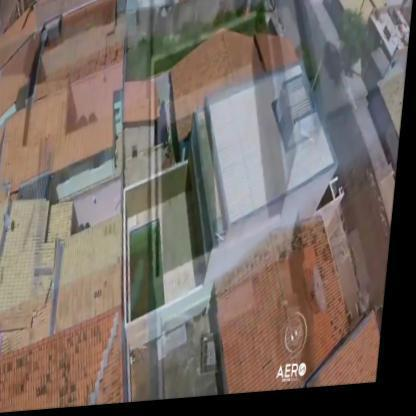lixo: (130, 228, 176, 314)
